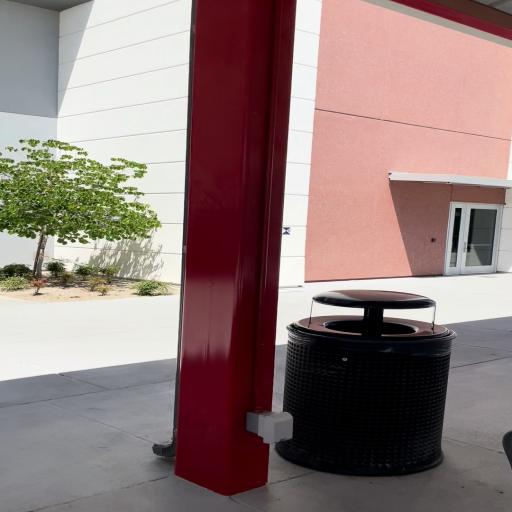target6: (282, 227, 290, 234)
